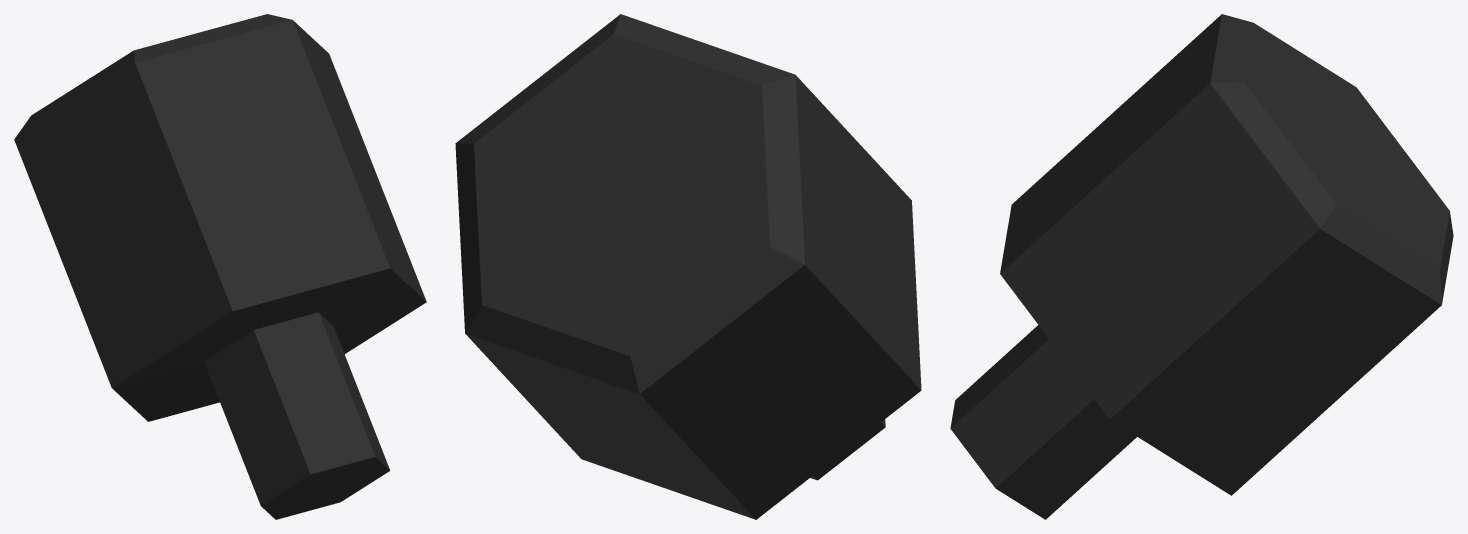
The model's file is Pistol6_04_2.fbx.
3 views of the same model, side by side, from view 1: azimuth 30°, elevation 25°; view 2: azimuth 150°, elevation 25°; view 3: azimuth 270°, elevation 25° (orthographic). The views are drawn at different scales.
Visible parts, largest first — view 1: Pistol6_04_2; view 2: Pistol6_04_2; view 3: Pistol6_04_2.
Boxes of the visible parts, x1,y1,x2,y2 form: Pistol6_04_2: [14, 14, 426, 519]; Pistol6_04_2: [455, 14, 921, 519]; Pistol6_04_2: [950, 14, 1453, 519].
Size of the model in its own units: 0.00979 by 0.013 by 0.013.
